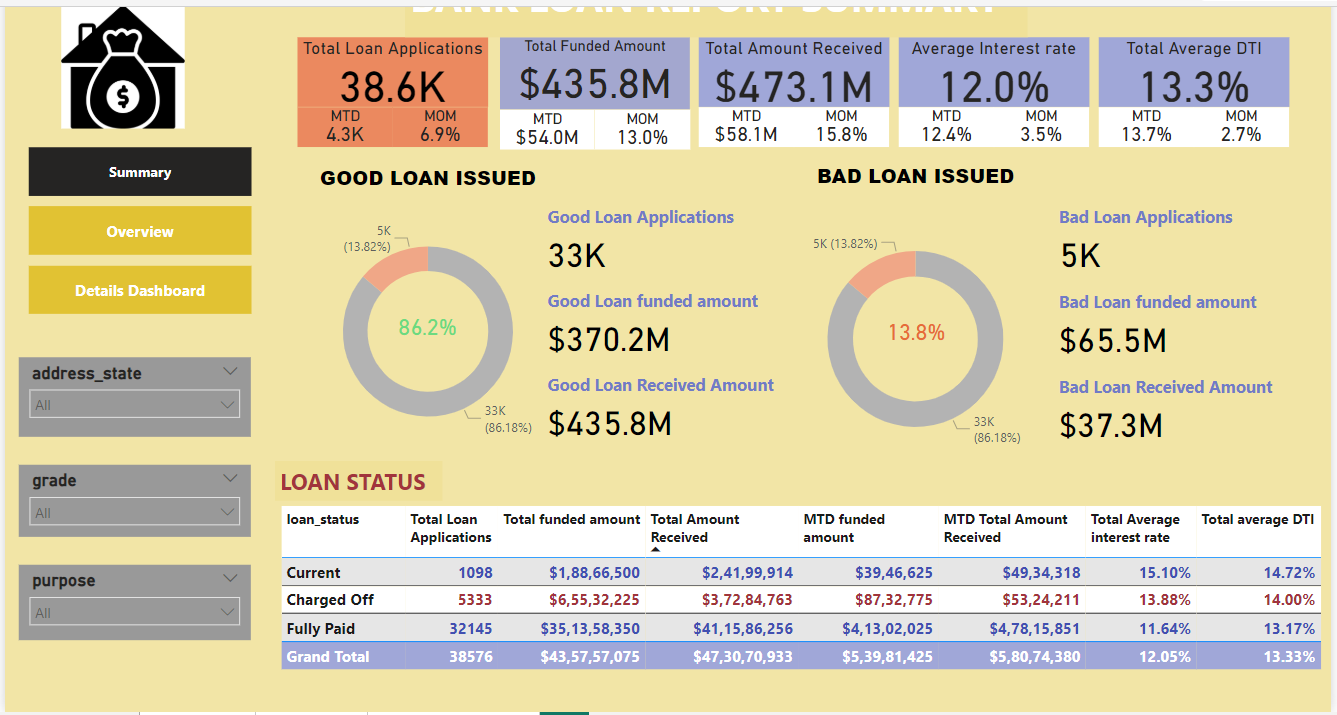

Layout of this report page (visuals, bound fields, positions):
{"tool":"powerbi","page":{"name":"Summary","canvas":[1280,720],"ordinal":0},"visuals":[{"type":"card","title":"Total Funded Amount","fields":{"Values":["financial_loan.Total funded amount"]},"box":[477.8,68.8,183.4,70],"z":0},{"type":"card","title":"Total Loan Applications","fields":{"Values":["financial_loan.Total Loan Applications"]},"box":[282.2,68.9,183.9,67.2],"z":0,"group":"g4"},{"type":"card","title":"Total Amount Received","fields":{"Values":["financial_loan.Total Amount Received"]},"box":[669.2,68.9,183.9,67.2],"z":0,"group":"g1"},{"type":"card","title":"Average Interest rate","fields":{"Values":["financial_loan.Average interest rate"]},"box":[862.1,68.9,183.9,67.2],"z":0,"group":"g2"},{"type":"card","title":"Total Average DTI","fields":{"Values":["financial_loan.Total average DTI"]},"box":[1055.1,68.9,183.9,67.2],"z":0,"group":"g3"},{"type":"card","title":"MTD","fields":{"Values":["financial_loan.MTD Loan applications"]},"box":[282.2,136.1,91.9,38.4],"z":1000,"group":"g4"},{"type":"card","title":"MTD","fields":{"Values":["financial_loan.MTD Total Amount Received"]},"box":[669.2,136.1,91.9,38.4],"z":1000,"group":"g1"},{"type":"card","title":"MTD","fields":{"Values":["financial_loan.MTD Average Interest rate"]},"box":[862.1,136.1,91.9,38.4],"z":1000,"group":"g2"},{"type":"card","title":"MTD","fields":{"Values":["financial_loan.MTD TOTAL AVERAGE DTI"]},"box":[1055.1,136.1,91.9,38.4],"z":1000,"group":"g3"},{"type":"card","title":"MTD","fields":{"Values":["financial_loan.MTD funded amount"]},"box":[477.5,138.2,91.6,38.6],"z":1000},{"type":"card","title":"MOM","fields":{"Values":["financial_loan.MOM Loan applications"]},"box":[374.1,136.1,91.9,38.4],"z":2000,"group":"g4"},{"type":"card","title":"MOM","fields":{"Values":["financial_loan.MOM Total Amount Received"]},"box":[761.1,136.1,91.9,38.4],"z":2000,"group":"g1"},{"type":"card","title":"MOM","fields":{"Values":["financial_loan.MOM total average unterest rate"]},"box":[954,136.1,91.9,38.4],"z":2000,"group":"g2"},{"type":"card","title":"MOM","fields":{"Values":["financial_loan.MOM Average DTI"]},"box":[1147,136.1,91.9,38.4],"z":2000,"group":"g3"},{"type":"card","title":"Average Interest rate","fields":{"Values":["financial_loan.Good Loan %"]},"box":[371.6,331.8,72.4,33.8],"z":2000},{"type":"card","title":"MOM","fields":{"Values":["financial_loan.MOM total funded amount"]},"box":[569.2,138.3,91.7,38.6],"z":3000},{"type":"group","id":"g1","title":"Group 1","box":[669.2,68.9,182.9,105.7],"z":4000},{"type":"group","id":"g2","title":"Group 1","box":[862.1,68.9,182.9,105.7],"z":5000},{"type":"group","id":"g3","title":"Group 1","box":[1055.1,68.9,182.9,105.7],"z":6000},{"type":"group","id":"g4","title":"Group 1","box":[282.2,68.9,183.9,105.7],"z":7000},{"type":"actionButton","box":[0,0,100,40],"z":8000},{"type":"donutChart","title":"GOOD LOAN ISSUED","fields":{"Y":["financial_loan.Total Loan Applications"],"Category":["financial_loan.Good Loan vs Bad Loan"]},"box":[272.7,190.6,271.4,302.8],"z":9000},{"type":"cardVisual","fields":{"Data":["financial_loan.Good Loan Applications","financial_loan.Good Loan funded amount","financial_loan.Good Loan Received Amount"]},"box":[506.7,213.5,254.6,254.6],"z":10000},{"type":"donutChart","title":"BAD LOAN ISSUED","fields":{"Y":["financial_loan.Total Loan Applications"],"Category":["financial_loan.Good Loan vs Bad Loan"]},"box":[737.1,188.2,283.5,322.1],"z":11000},{"type":"cardVisual","fields":{"Data":["financial_loan.Bad Loan Applications","financial_loan.Bad Loan funded amount","financial_loan.Bad Loan Received Amount"]},"box":[1000.1,213.5,264.2,258.2],"z":12000},{"type":"card","title":"Average Interest rate","fields":{"Values":["financial_loan.Bad Loan %"]},"box":[845.7,336.6,67.6,33.8],"z":13000},{"type":"tableEx","fields":{"Values":["financial_loan.loan_status","financial_loan.Total Loan Applications","financial_loan.Total funded amount","financial_loan.Total Amount Received","financial_loan.MTD funded amount","financial_loan.MTD Total Amount Received","financial_loan.Total Average interest rate","financial_loan.Total average DTI"]},"box":[260.6,516.4,1019.4,170.1],"z":14000},{"type":"textbox","box":[260.6,477.8,161.7,38.6],"z":15000},{"type":"slicer","fields":{"Values":["financial_loan.address_state"]},"box":[13.4,377.3,223.9,76.7],"z":16000},{"type":"slicer","fields":{"Values":["financial_loan.grade"]},"box":[13.4,481.9,223.9,69.4],"z":17000},{"type":"slicer","fields":{"Values":["financial_loan.purpose"]},"box":[13.4,578.1,223.9,73],"z":18000},{"type":"textbox","box":[386.1,0,600.8,68.8],"z":19000},{"type":"image","box":[49.9,19.5,129,155.8],"z":20000},{"type":"pageNavigator","box":[23.1,175.2,215.4,161.9],"z":21000}]}

Visuals, with their boxes on the page's 1280x720 design canvas (x1, y1, x2, y2). These are canvas units, not pixel positions in the 1337x715 screenshot, which may show the page scaled, cropped or inside an application window:
"Total Funded Amount" card: 478:69:661:139
"Total Loan Applications" card: 282:69:466:136
"Total Amount Received" card: 669:69:853:136
"Average Interest rate" card: 862:69:1046:136
"Total Average DTI" card: 1055:69:1239:136
"MTD" card: 282:136:374:174
"MTD" card: 669:136:761:174
"MTD" card: 862:136:954:174
"MTD" card: 1055:136:1147:174
"MTD" card: 478:138:569:177
"MOM" card: 374:136:466:174
"MOM" card: 761:136:853:174
"MOM" card: 954:136:1046:174
"MOM" card: 1147:136:1239:174
"Average Interest rate" card: 372:332:444:366
"MOM" card: 569:138:661:177
"Group 1" group: 669:69:852:175
"Group 1" group: 862:69:1045:175
"Group 1" group: 1055:69:1238:175
"Group 1" group: 282:69:466:175
actionButton: 0:0:100:40
"GOOD LOAN ISSUED" donutChart: 273:191:544:493
cardVisual - financial_loan.Good Loan Applications x financial_loan.Good Loan funded amount: 507:214:761:468
"BAD LOAN ISSUED" donutChart: 737:188:1021:510
cardVisual - financial_loan.Bad Loan Applications x financial_loan.Bad Loan funded amount: 1000:214:1264:472
"Average Interest rate" card: 846:337:913:370
tableEx - financial_loan.loan_status x financial_loan.Total Loan Applications: 261:516:1280:686
textbox: 261:478:422:516
slicer - financial_loan.address_state: 13:377:237:454
slicer - financial_loan.grade: 13:482:237:551
slicer - financial_loan.purpose: 13:578:237:651
textbox: 386:0:987:69
image: 50:20:179:175
pageNavigator: 23:175:238:337
